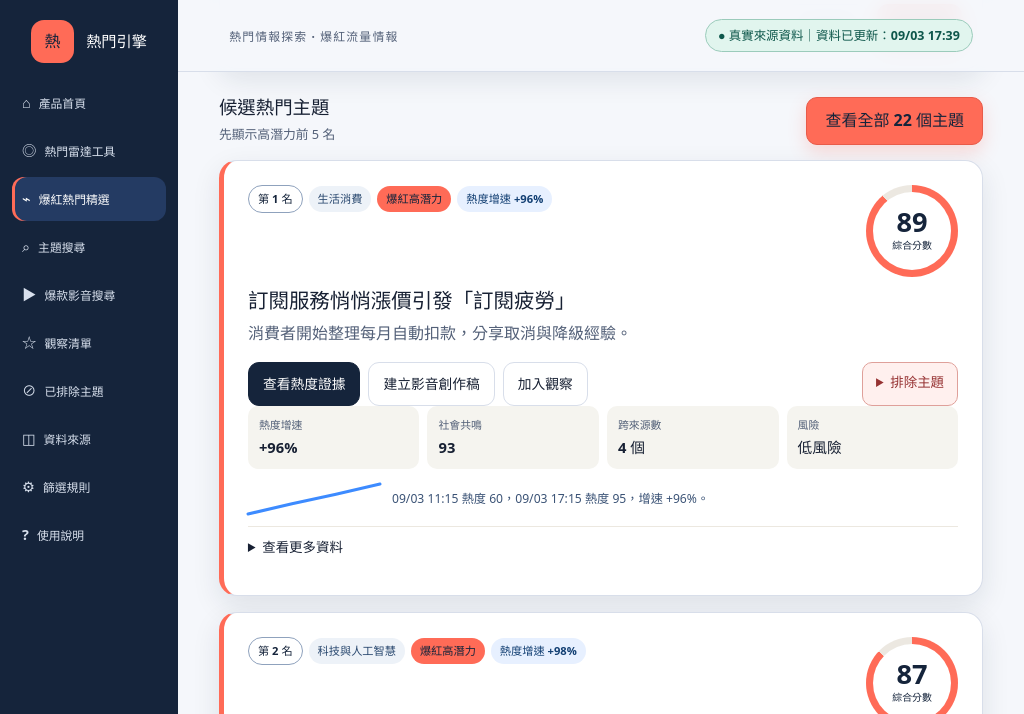
RC2清單、排除與公開文案 › 排除原因未選時不可確認，選擇後可排除並撤銷
This screenshot has width=1024, height=714.
(page scrolled)
Expected: the heading "訂閱服務悄悄漲價引發「訂閱疲勞」" is shown, [248, 286, 576, 314]
Click the heading "排除主題" at (910, 384), box [862, 362, 958, 406]
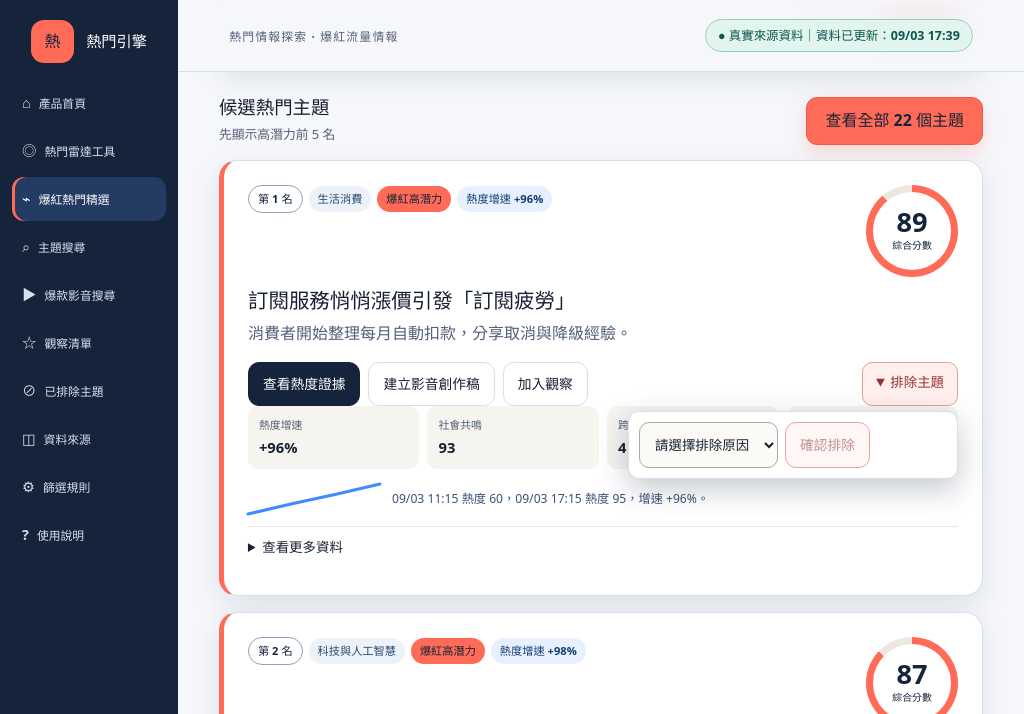
Expected: the button "確認排除" is disabled, [785, 422, 870, 468]
Select "無品牌價值" in the dropdown named "訂閱服務悄悄漲價引發「訂閱疲勞」 排除原因" at (708, 445), box [639, 422, 778, 468]
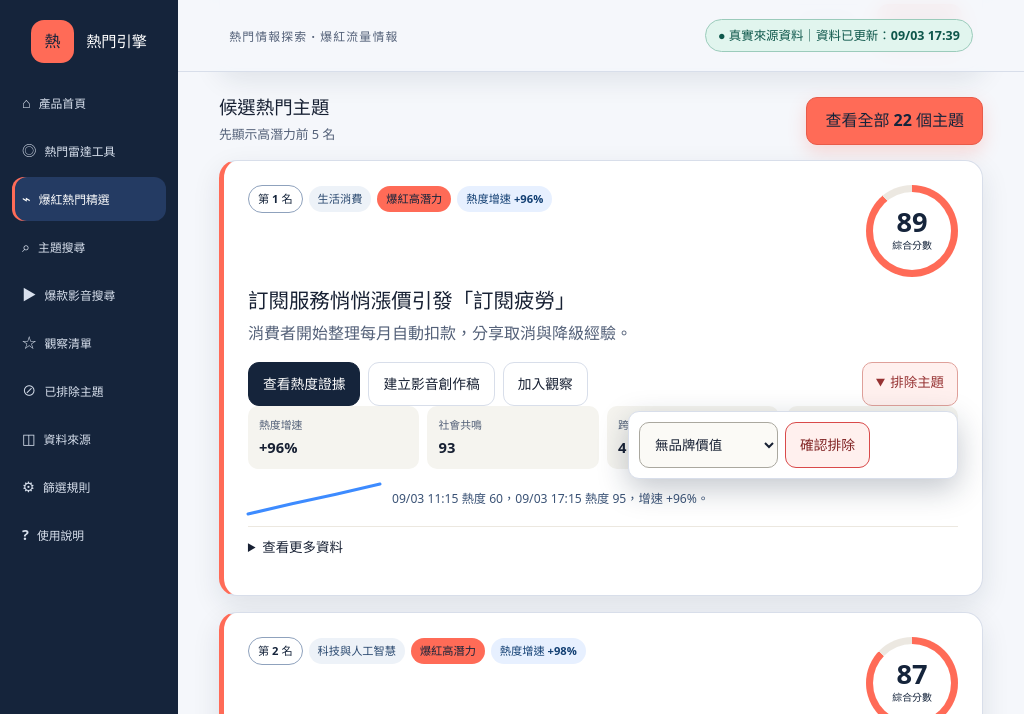
Expected: the button "確認排除" is enabled
Click the button "確認排除" at (828, 445), box [785, 422, 870, 468]
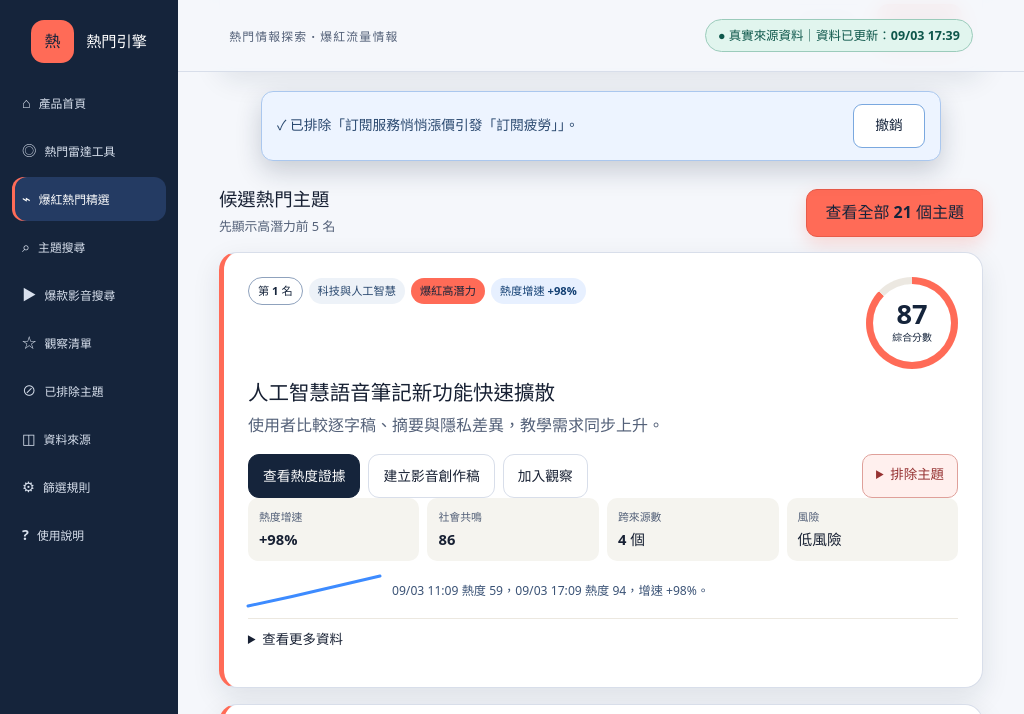
Click the button "撤銷" at (889, 126), box [853, 104, 925, 148]
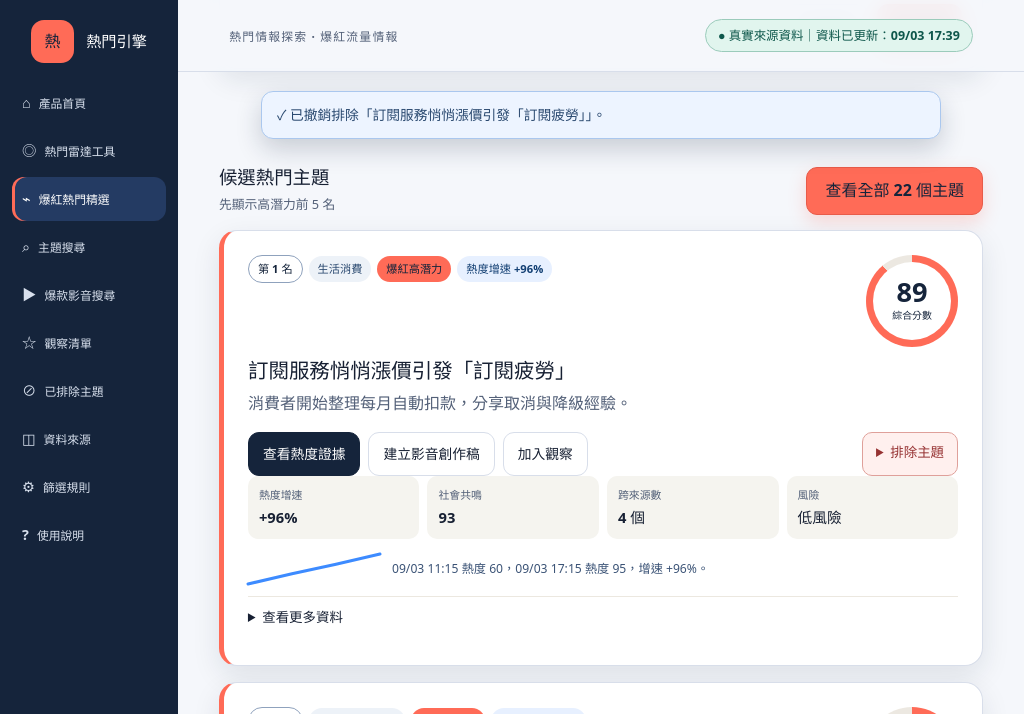
Expected: the heading "訂閱服務悄悄漲價引發「訂閱疲勞」" is shown, [248, 356, 576, 384]
